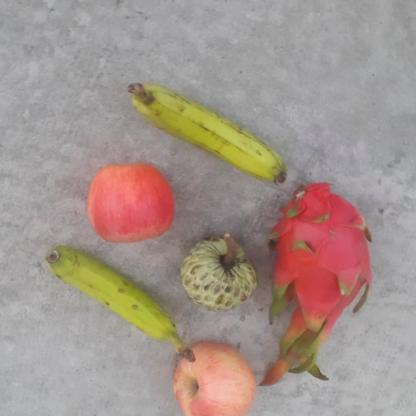annona: (180, 231, 260, 313)
apple: (84, 160, 178, 245), (170, 339, 258, 416)
banana: (46, 244, 197, 362), (126, 79, 291, 185)
pitaya: (266, 176, 376, 338)
